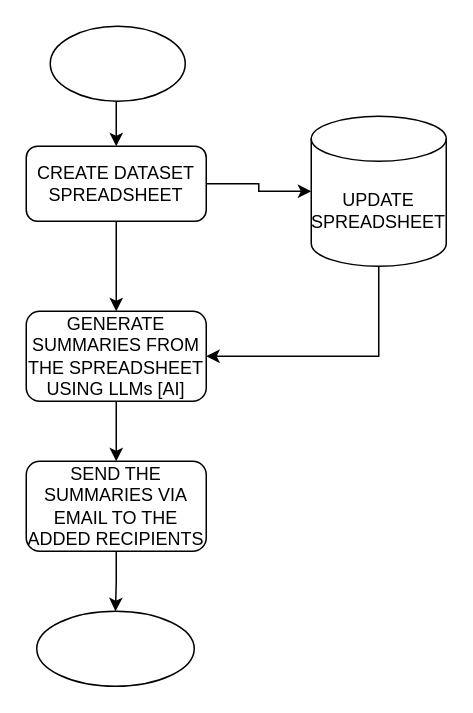
The diagram is 473 pixels wide and 713 high, and some of its shapes have lost their labels. The shapes that lost their labels are listed below. From the top down, each one's centre as x and y in pixels, then its label:
point 117,63: START
point 114,648: END
